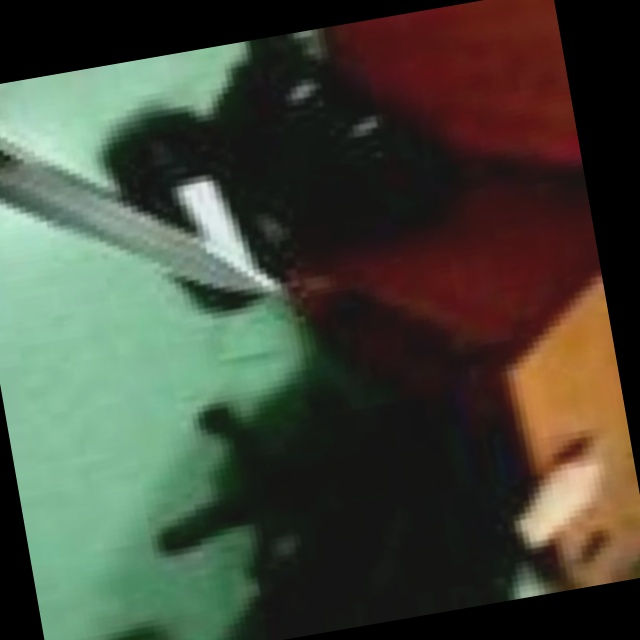Sharp-Object: (0, 85, 275, 334)
